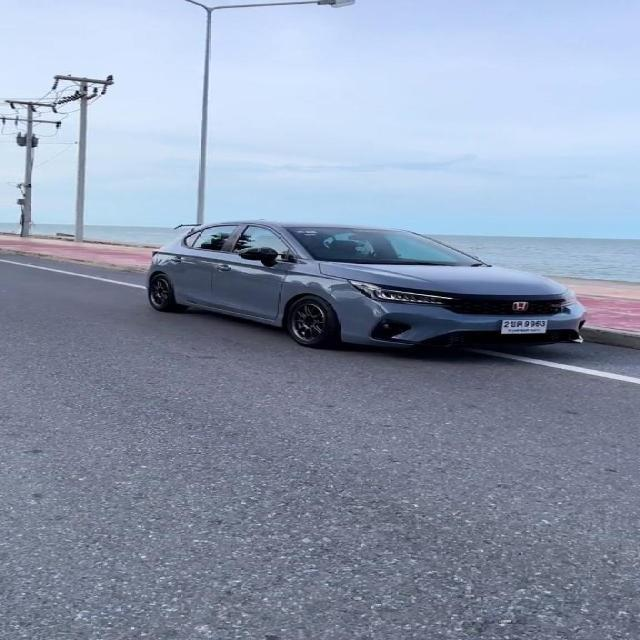Hatchback: (147, 221, 584, 348)
